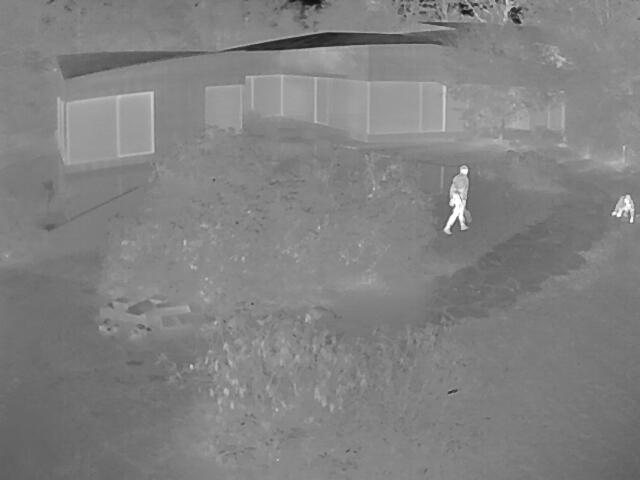person: (442, 164, 470, 236), (610, 194, 635, 226)
